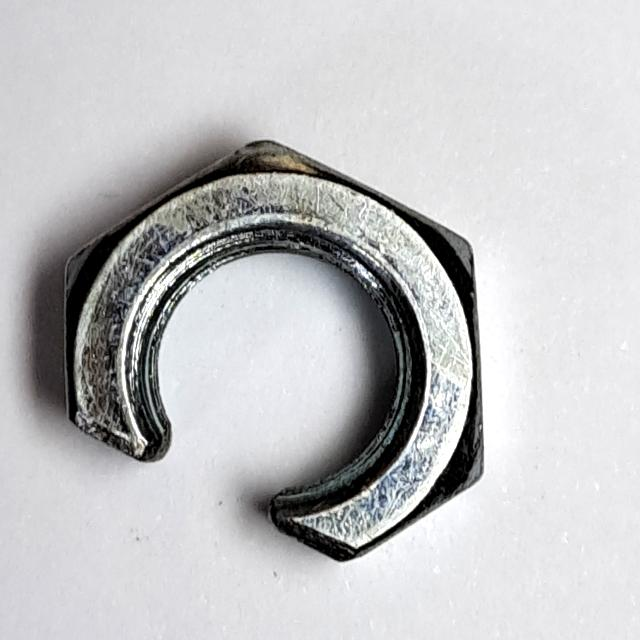Fracture: (44, 113, 511, 585)
